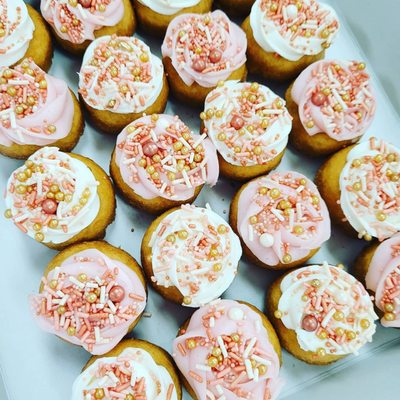salad: (28, 240, 148, 355), (4, 147, 117, 251), (266, 263, 378, 365), (172, 299, 283, 400), (110, 114, 220, 215), (141, 204, 242, 307), (229, 171, 332, 270), (200, 80, 293, 182), (314, 136, 400, 242), (77, 35, 169, 134), (285, 59, 377, 156), (0, 57, 85, 160), (161, 9, 249, 106), (245, 0, 340, 82), (71, 338, 182, 400), (339, 146, 400, 243), (39, 0, 137, 54), (353, 232, 400, 329), (131, 0, 213, 36), (0, 0, 34, 72), (24, 3, 54, 73)
